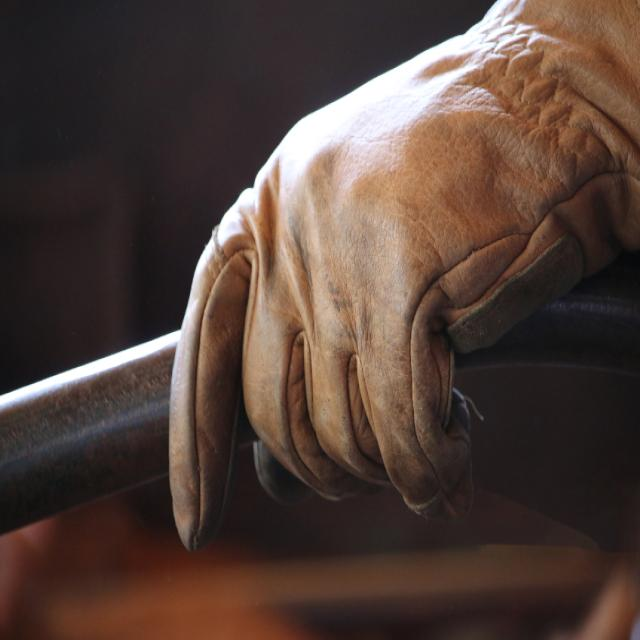gloves: (166, 0, 640, 566)
